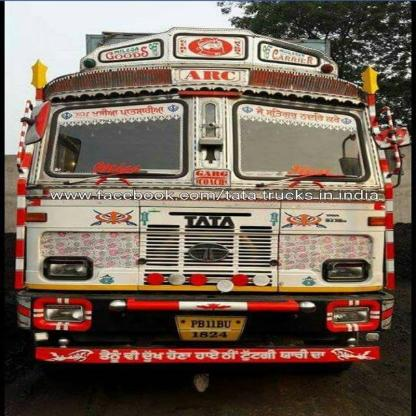truck: (21, 46, 394, 372)
